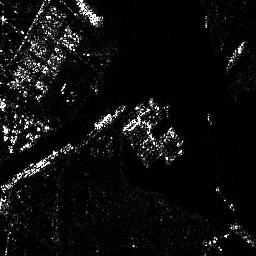ship: (87, 104, 129, 135), (75, 1, 104, 27), (224, 40, 245, 69)
